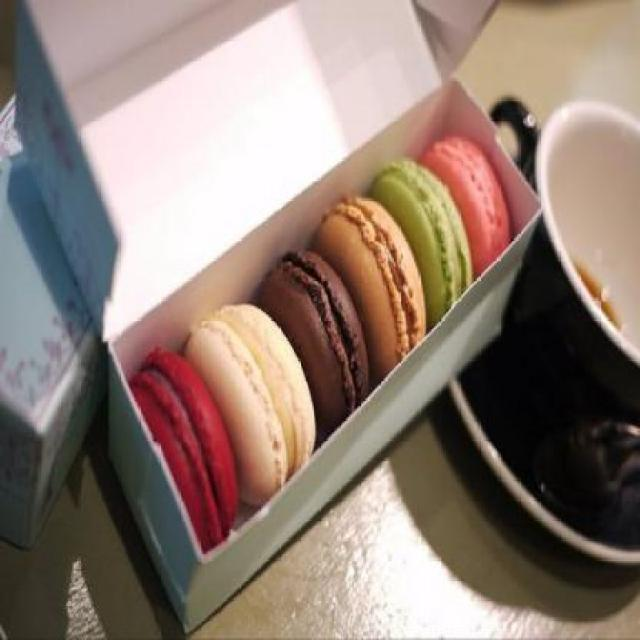Macaron: (132, 130, 516, 582)
